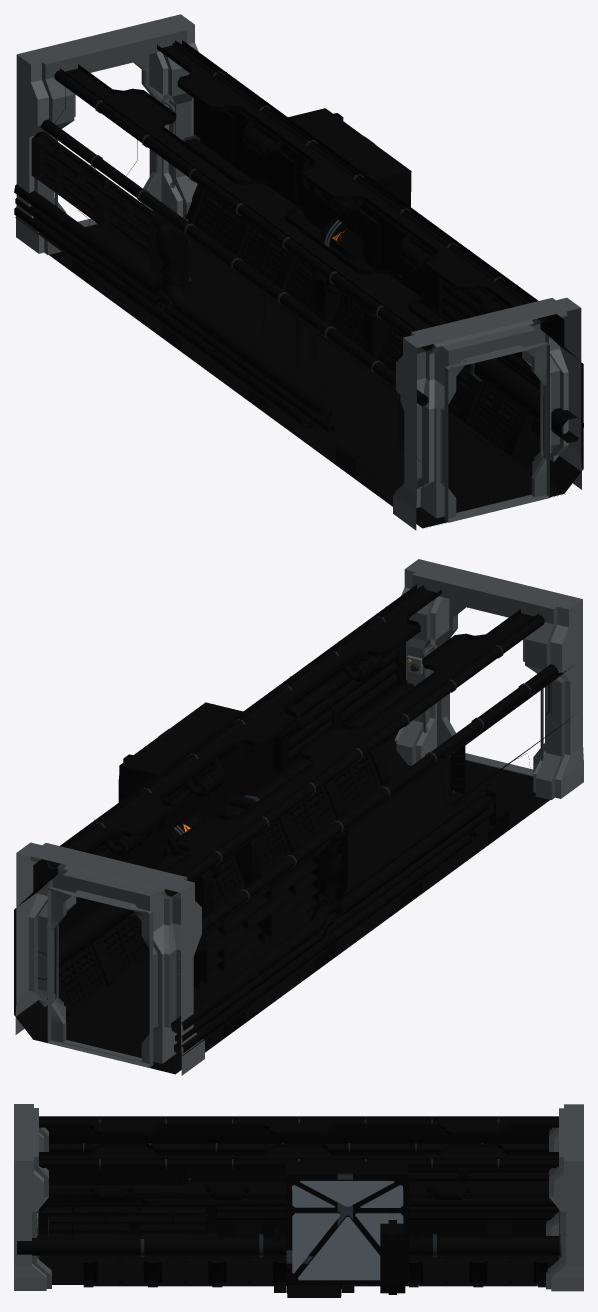
The model's file is ROOMx2_1.fbx.
3 views of the same model, one above another, from view 1: azimuth 30°, elevation 25°; view 2: azimuth 150°, elevation 25°; view 3: azimuth 270°, elevation 25° (orthographic). The views are drawn at different scales.
Visible parts, largest first — view 1: MainTonel.007, ROOMx2_1, MainTonel.002, MainTonel.004, MainTonel.005, OptionAIDKIT.001, OptionEMPTY.001, OptionHIDE.001, OptionEMPTY.004, MainTonel.003, Gen.001, MainTonel.006 (+1 smaller); view 2: MainTonel.007, ROOMx2_1, MainTonel.002, MainTonel.004, MainTonel.005, OptionAIDKIT.001, OptionEMPTY.001, OptionHIDE.001, MainTonel.003, MainTonel.006, OptionEMPTY.004, OptionEMPTY.003 (+1 smaller); view 3: MainTonel.007, MainTonel.002, OptionAIDKIT.001, ROOMx2_1, MainTonel.005, MainTonel.004, Gen.001, MainTonel.003, MainTonel.006, OptionEMPTY.002, OptionHIDE.001, OptionAIDKIT.002.
Boxes of the visible parts, left/top/right/bottom form: MainTonel.007: left=15, top=40, right=583, bottom=528; ROOMx2_1: left=16, top=14, right=581, bottom=530; MainTonel.002: left=40, top=41, right=583, bottom=442; MainTonel.004: left=14, top=184, right=334, bottom=433; MainTonel.005: left=193, top=190, right=520, bottom=452; OptionAIDKIT.001: left=288, top=108, right=411, bottom=267; OptionEMPTY.001: left=287, top=117, right=392, bottom=324; OptionHIDE.001: left=316, top=220, right=392, bottom=360; OptionEMPTY.004: left=284, top=257, right=365, bottom=348; MainTonel.003: left=242, top=118, right=503, bottom=314; Gen.001: left=296, top=113, right=375, bottom=310; MainTonel.006: left=72, top=259, right=356, bottom=478; MainTonel.007: left=14, top=584, right=573, bottom=1074; ROOMx2_1: left=15, top=559, right=583, bottom=1075; MainTonel.002: left=37, top=586, right=558, bottom=980; MainTonel.004: left=171, top=795, right=495, bottom=1054; MainTonel.005: left=54, top=752, right=381, bottom=1015; OptionAIDKIT.001: left=118, top=702, right=242, bottom=865; OptionEMPTY.001: left=137, top=712, right=243, bottom=867; OptionHIDE.001: left=148, top=758, right=260, bottom=918; MainTonel.003: left=101, top=654, right=383, bottom=856; MainTonel.006: left=224, top=810, right=508, bottom=1036; OptionEMPTY.004: left=213, top=854, right=245, bottom=909; OptionEMPTY.003: left=182, top=758, right=225, bottom=797; MainTonel.007: left=38, top=1116, right=566, bottom=1297; MainTonel.002: left=17, top=1118, right=561, bottom=1257; OptionAIDKIT.001: left=285, top=1161, right=408, bottom=1284; ROOMx2_1: left=14, top=1104, right=583, bottom=1291; MainTonel.005: left=93, top=1258, right=537, bottom=1286; MainTonel.004: left=139, top=1198, right=558, bottom=1220; Gen.001: left=285, top=1173, right=405, bottom=1294; MainTonel.003: left=87, top=1186, right=471, bottom=1200; MainTonel.006: left=128, top=1222, right=512, bottom=1235; OptionEMPTY.002: left=261, top=1234, right=435, bottom=1257; OptionHIDE.001: left=274, top=1255, right=354, bottom=1292; OptionAIDKIT.002: left=261, top=1234, right=434, bottom=1257.
Bounding box in the file's own units: 3.06 × 2.54 × 10.02.
